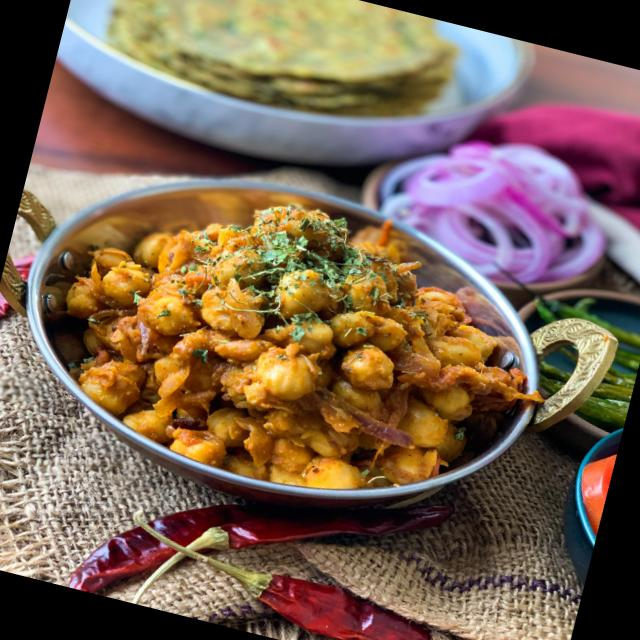Chole: (36, 154, 572, 540)
